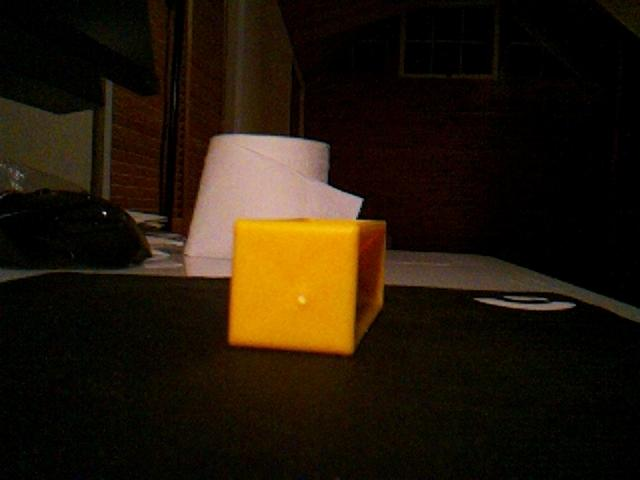yellow: (227, 217, 388, 357)
